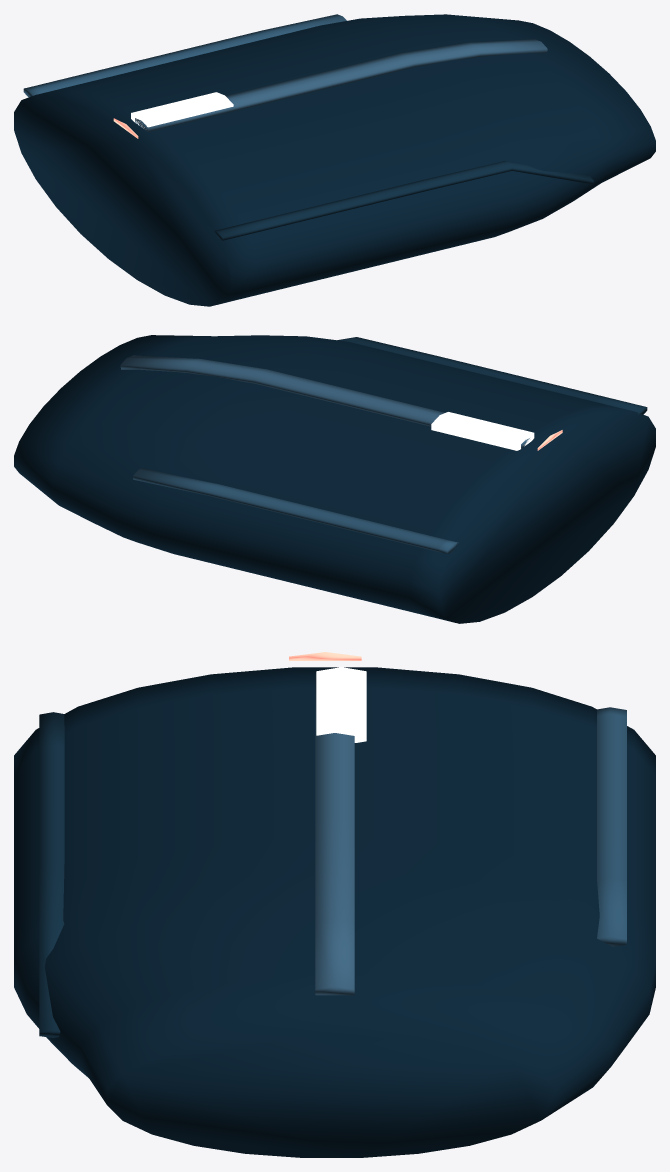
File: newshs-3.glb
The picture shows the model from 3 angles, top to bottom: view 1: azimuth 30°, elevation 25°; view 2: azimuth 150°, elevation 25°; view 3: azimuth 270°, elevation 25°; orthographic projection. The views are drawn at different scales.
Parts seen in each view (by area): view 1: newshs-3; view 2: newshs-3; view 3: newshs-3.
Part boxes in pixels (bbox=[...]): newshs-3: bbox=[14, 14, 655, 306]; newshs-3: bbox=[14, 335, 655, 623]; newshs-3: bbox=[14, 652, 655, 1157].
Size of the model in its own units: 2 by 0.6199 by 1.65.
